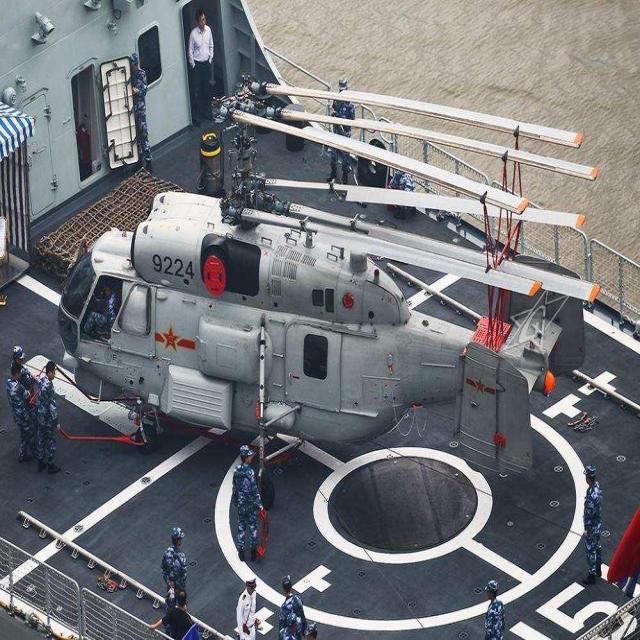MIL_HELO: (55, 81, 607, 508)
